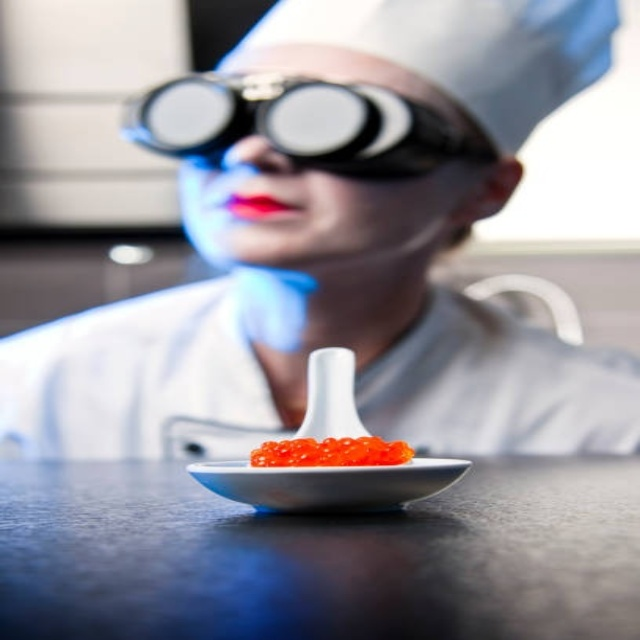Gafas: (123, 74, 497, 178)
Sin_mascara: (201, 183, 326, 248)
